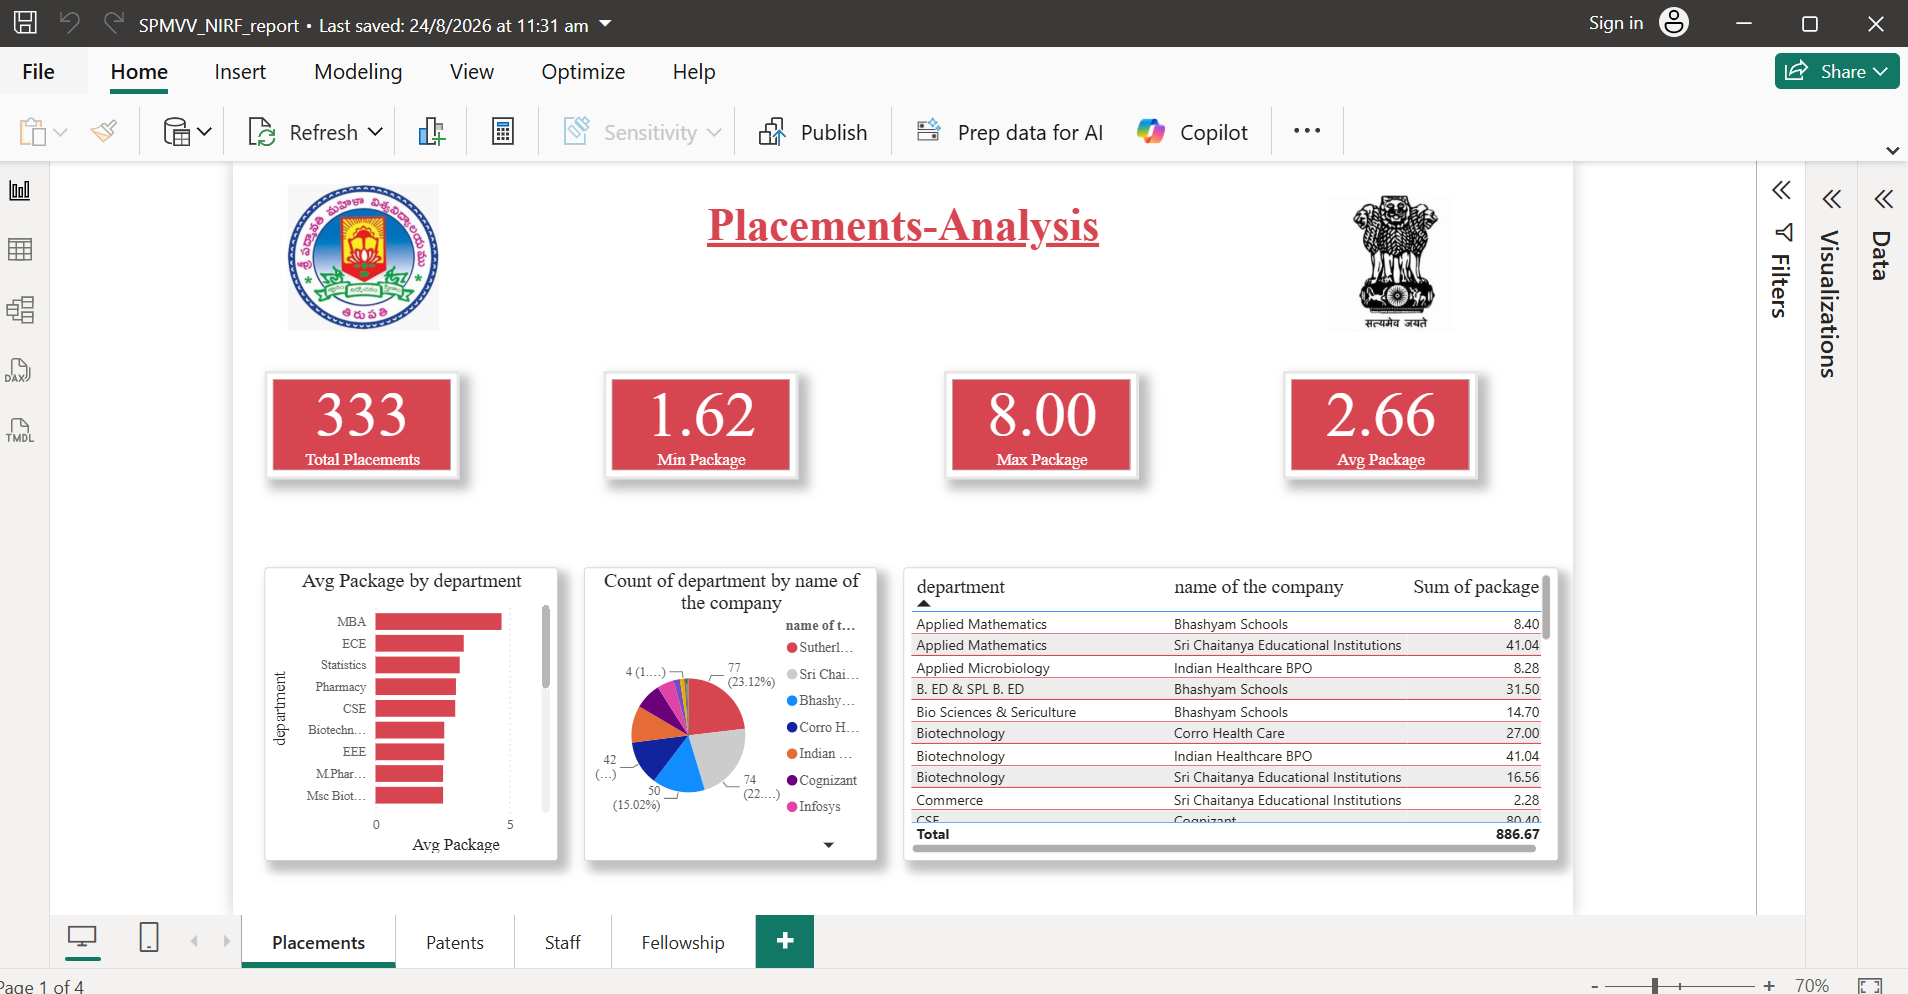

This screenshot's page, from the dashboard's own definition file:
{"tool":"powerbi","page":{"name":"Placements","canvas":[1280,720],"ordinal":0},"visuals":[{"type":"clusteredBarChart","fields":{"Category":["Placements.department"],"Y":["Placements.Avg Package"]},"box":[30.3,388.2,280,280],"z":0},{"type":"pieChart","fields":{"Category":["Placements.name of the company"],"Y":["CountNonNull(Placements.department)"]},"box":[335.4,388.2,280,280],"z":1000},{"type":"tableEx","fields":{"Values":["Placements.department","Placements.name of the company","Sum(Placements.package)"]},"box":[640.5,388.1,625.4,280.1],"z":2000},{"type":"cardVisual","fields":{"Data":["Placements.Total Placements"]},"box":[30.3,199.9,186.2,103],"z":3000},{"type":"cardVisual","fields":{"Data":["Placements.Avg Package"]},"box":[1002.4,199.9,186.2,103],"z":4000},{"type":"cardVisual","fields":{"Data":["Placements.Max Package"]},"box":[678.4,199.9,186.2,103],"z":5000},{"type":"cardVisual","fields":{"Data":["Placements.Min Package"]},"box":[354.3,199.9,186.2,103],"z":6000},{"type":"textbox","box":[30,0,186,150],"z":7000},{"type":"textbox","box":[422.5,31.8,434.6,60.6],"z":8000},{"type":"image","box":[31.8,16.7,186,150],"z":9000},{"type":"image","box":[1013,16.7,186,150],"z":10000}]}

Visuals, with their boxes on the page's 1280x720 design canvas (x1, y1, x2, y2). These are canvas units, not pixel positions in the 1908x994 screenshot, which may show the page scaled, cropped or inside an application window:
clusteredBarChart - Placements.department x Placements.Avg Package: [x1=30, y1=388, x2=310, y2=668]
pieChart - Placements.name of the company x CountNonNull(Placements.department): [x1=335, y1=388, x2=615, y2=668]
tableEx - Placements.department x Placements.name of the company: [x1=640, y1=388, x2=1266, y2=668]
cardVisual - Placements.Total Placements: [x1=30, y1=200, x2=216, y2=303]
cardVisual - Placements.Avg Package: [x1=1002, y1=200, x2=1189, y2=303]
cardVisual - Placements.Max Package: [x1=678, y1=200, x2=865, y2=303]
cardVisual - Placements.Min Package: [x1=354, y1=200, x2=540, y2=303]
textbox: [x1=30, y1=0, x2=216, y2=150]
textbox: [x1=422, y1=32, x2=857, y2=92]
image: [x1=32, y1=17, x2=218, y2=167]
image: [x1=1013, y1=17, x2=1199, y2=167]
